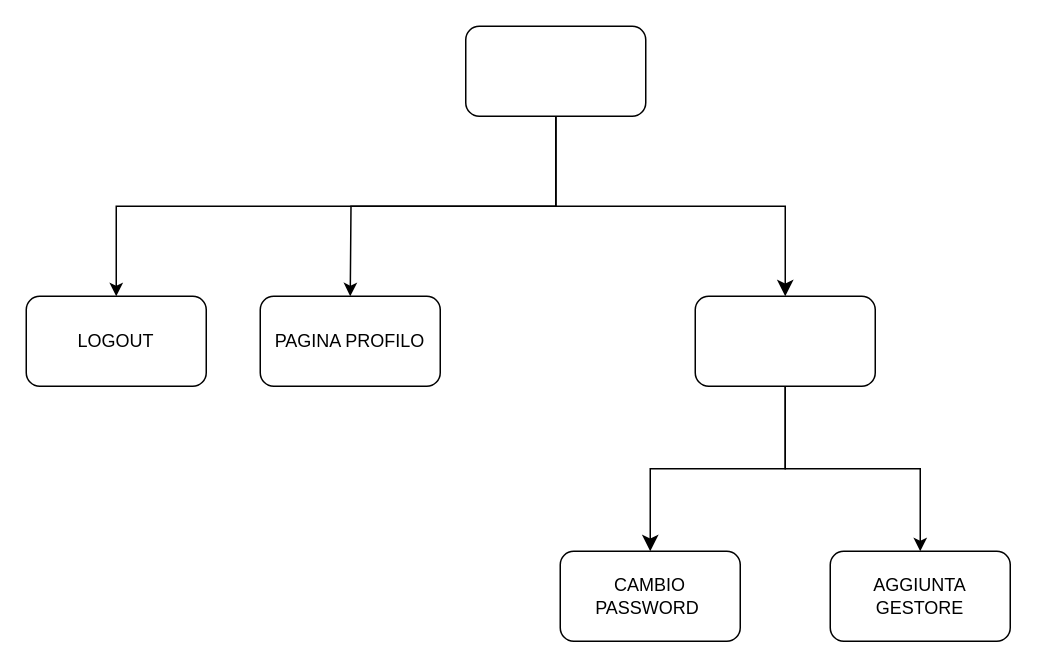
Image size: 1037x668. Some labels were removed from this diagram. Each missing label, with the centre of its shape:
"AREA PERSONALE-VISUALIZZAZIONE UTENTI" goes at point 784,340.
"HOMEPAGE" goes at point 555,70.
